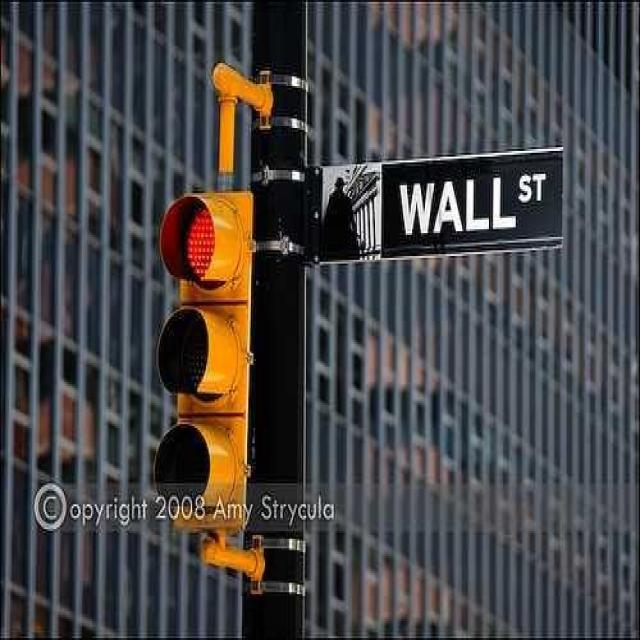Traffic Light -Red-: (150, 176, 254, 534)
